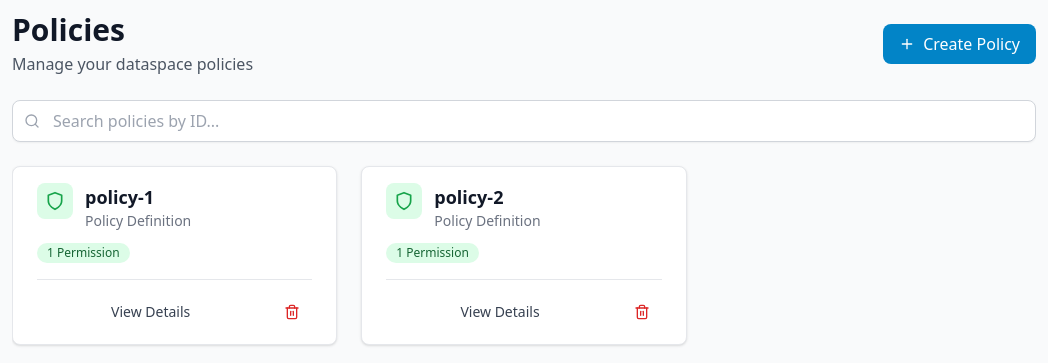
it: Policies Page Integration Tests › Search Functionality › should filter policies based on search query
The width and height of the screenshot is (1048, 363).
Expected: the heading "policy-1" is shown, x1=85 y1=185 x2=154 y2=209
// Search for specific policy
Type "policy-1" into the field with placeholder "Search policies by ID...".
click(524, 121); type("policy-1")  # box x1=12 y1=100 x2=1036 y2=142
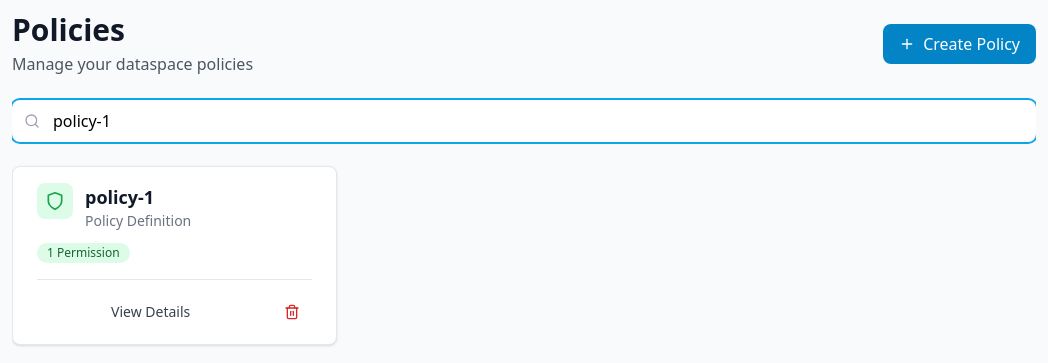
Expected: the heading "policy-1" is shown, x1=85 y1=185 x2=154 y2=209
Expected: the heading "policy-2" is gone
